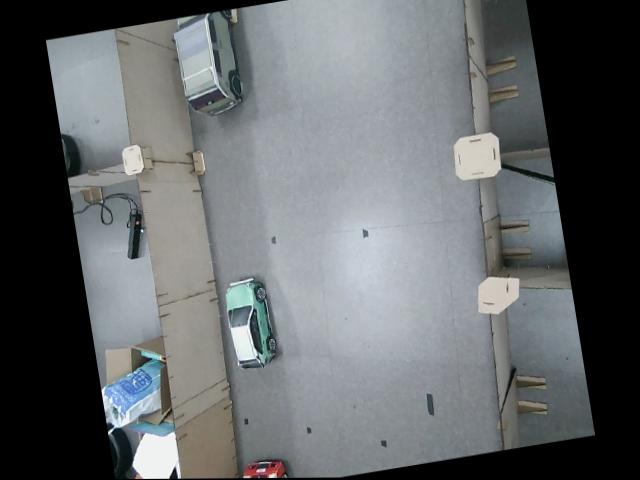car: (171, 10, 245, 119), (220, 277, 279, 371), (231, 453, 303, 478)
